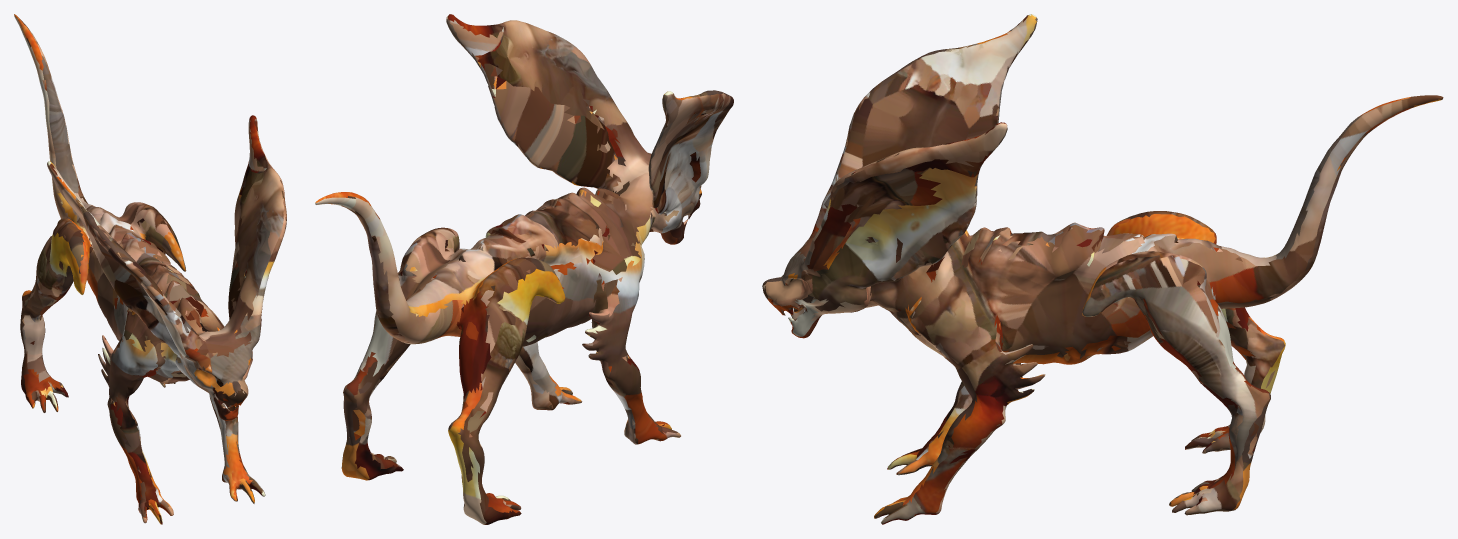
Rendered from sigbin model.fbx.
3 views of the same model, side by side, from view 1: azimuth 30°, elevation 25°; view 2: azimuth 150°, elevation 25°; view 3: azimuth 270°, elevation 25° (orthographic). The views are drawn at different scales.
Visible parts, largest first — view 1: Sigbin__0930082435; view 2: Sigbin__0930082435; view 3: Sigbin__0930082435.
Boxes of the visible parts, box(x1,y1,x2,y2) form: Sigbin__0930082435: box(14, 14, 286, 524); Sigbin__0930082435: box(315, 14, 733, 524); Sigbin__0930082435: box(762, 14, 1443, 524).
Bounding box in the file's own units: 143 × 239 × 342.
